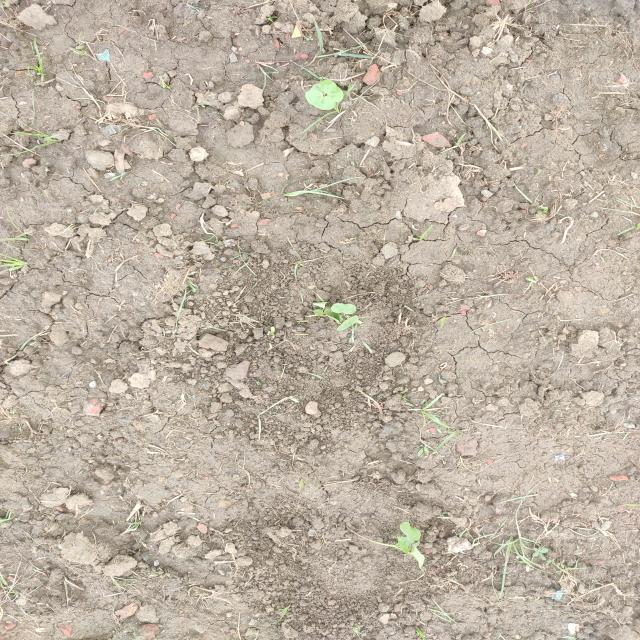seedling: (305, 89, 335, 110), (319, 80, 344, 102), (400, 522, 421, 541), (411, 541, 425, 569), (336, 315, 358, 331), (397, 536, 414, 554), (331, 303, 356, 314), (324, 309, 342, 323), (313, 302, 331, 309), (313, 309, 323, 315)
